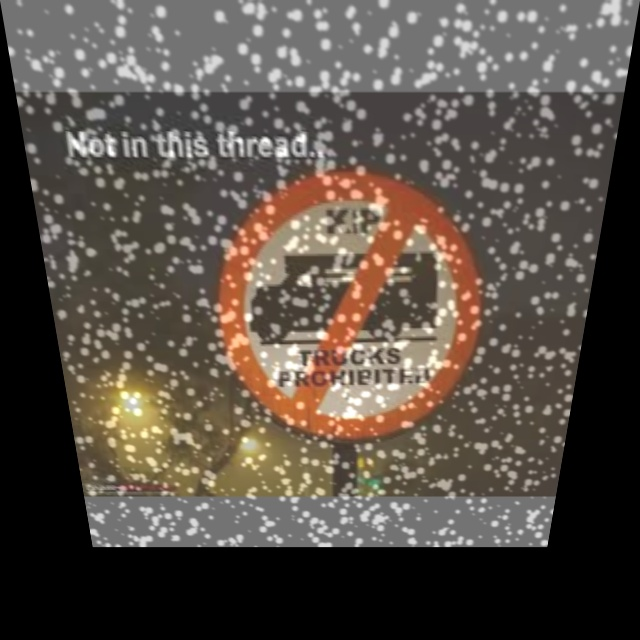Truck_Prohibited: (205, 169, 507, 443)
